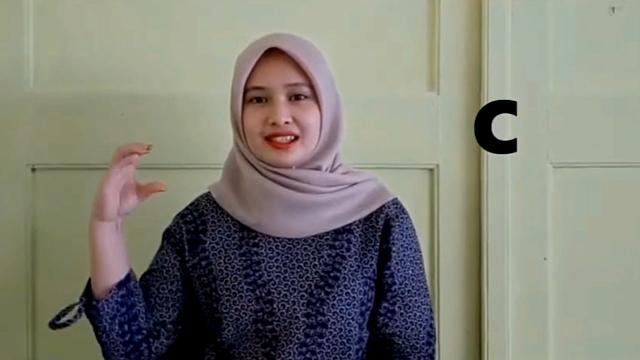C: (91, 141, 165, 223)
